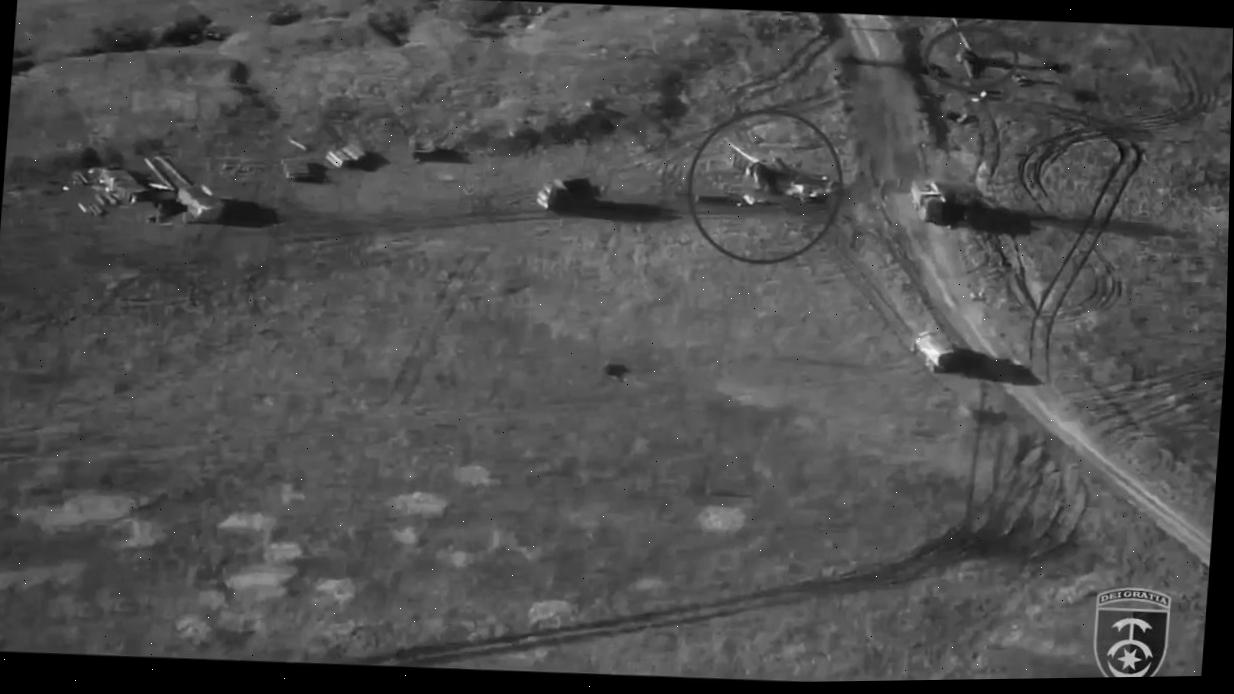sau: (719, 135, 790, 195)
truck: (907, 331, 957, 373), (907, 178, 947, 225)
